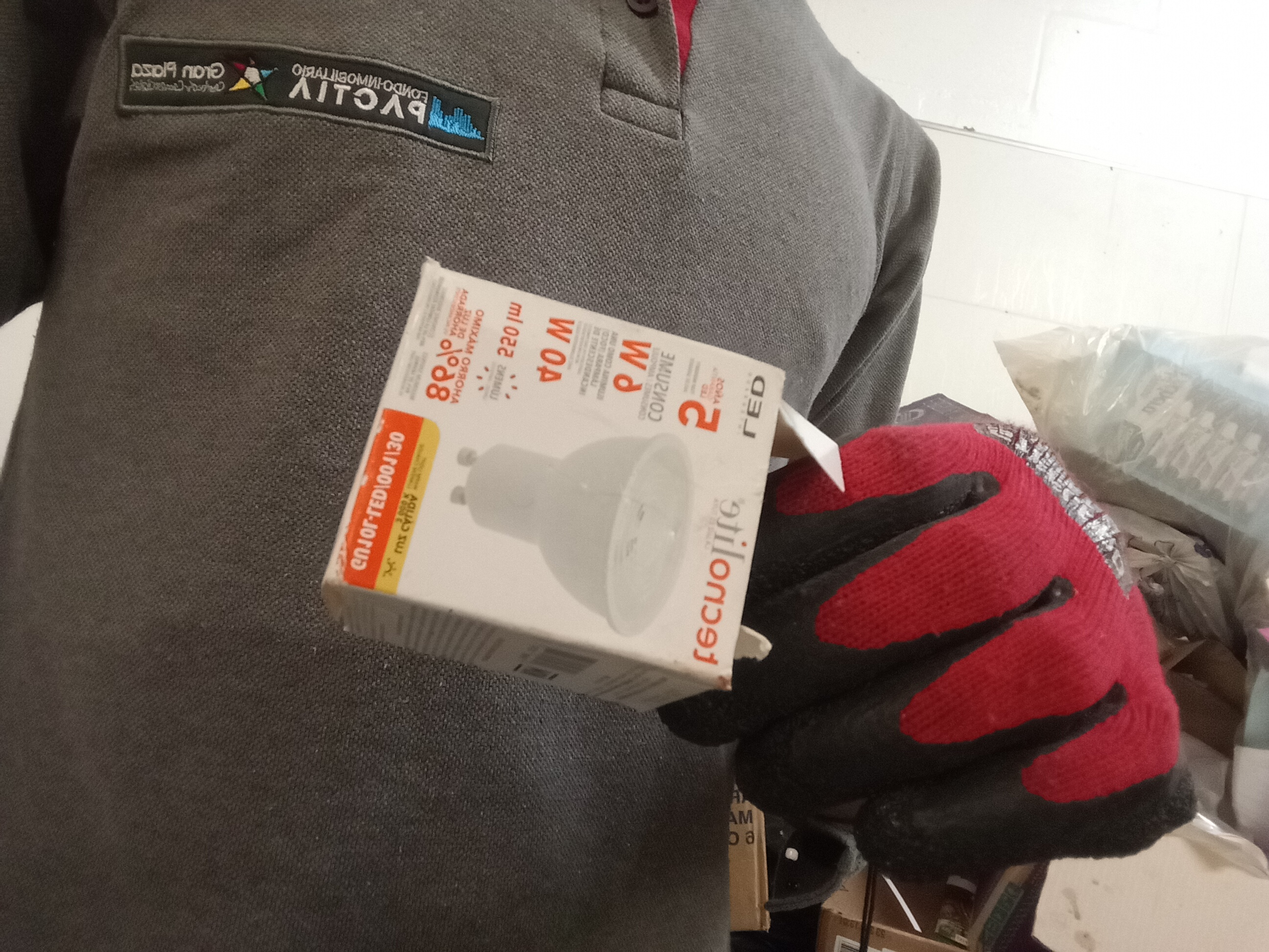Carton: (321, 254, 787, 716)
